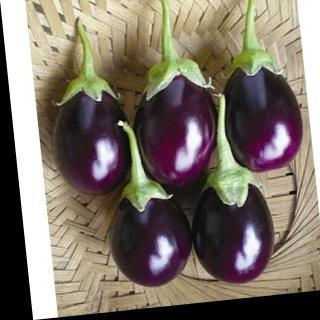eggplant: (180, 109, 272, 291), (133, 0, 219, 193), (40, 18, 132, 197), (98, 122, 192, 290), (221, 0, 304, 175)
